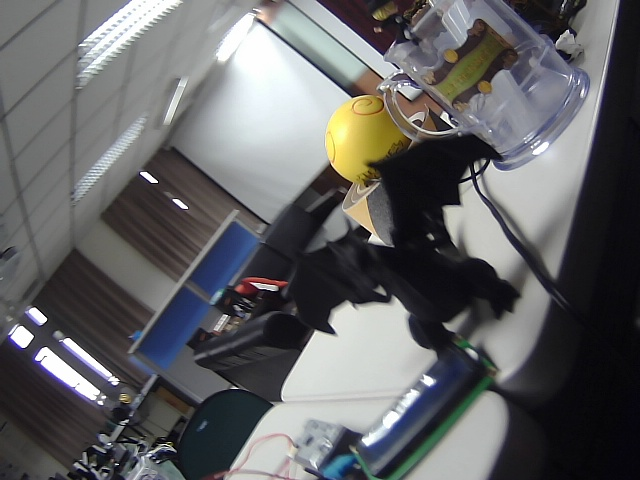charizard: (274, 137, 530, 369)
